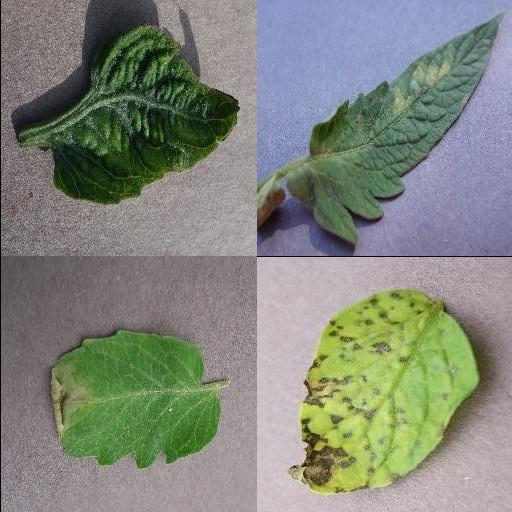Late Blight: (45, 330, 223, 472)
Leaf Mold: (286, 13, 504, 245)
Septoria: (286, 288, 478, 494)
Yellow Leaf Curl Virus: (51, 24, 239, 206)
